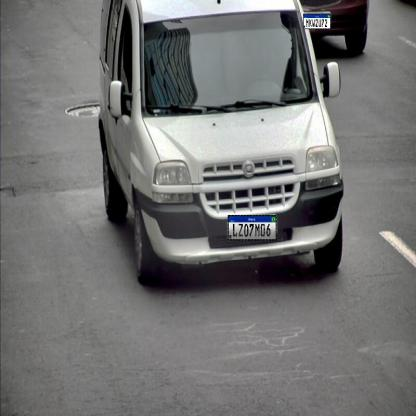PlacaM: (228, 215, 276, 241), (303, 14, 331, 29)
